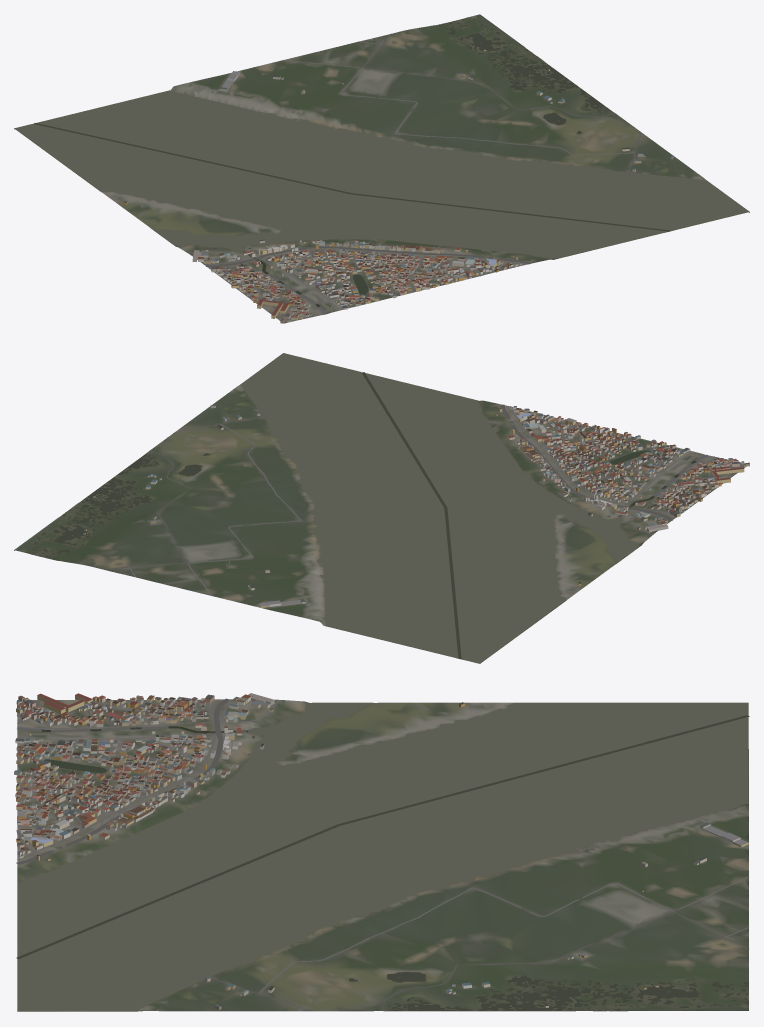
3 renders of one model, top to bottom at view 1: azimuth 30°, elevation 25°; view 2: azimuth 150°, elevation 25°; view 3: azimuth 270°, elevation 25°, orthographic. The views are drawn at different scales.
Visible parts, largest first — view 1: water, ground, buildings, roads; view 2: water, ground, buildings, roads; view 3: water, ground, buildings, roads.
Part boxes in pixels (box(x1,y1,x2,y2)): water: box(15, 19, 748, 314); ground: box(14, 14, 749, 323); buildings: box(123, 46, 673, 323); roads: box(190, 34, 645, 321); water: box(27, 353, 708, 663); ground: box(14, 358, 746, 663); buildings: box(83, 405, 749, 607); roads: box(103, 404, 745, 595); water: box(16, 702, 749, 1010); ground: box(17, 699, 748, 1011); buildings: box(14, 693, 748, 1009); roads: box(16, 698, 748, 1011).
Bounding box in the file's own units: 1415 × 21.95 × 1410.
